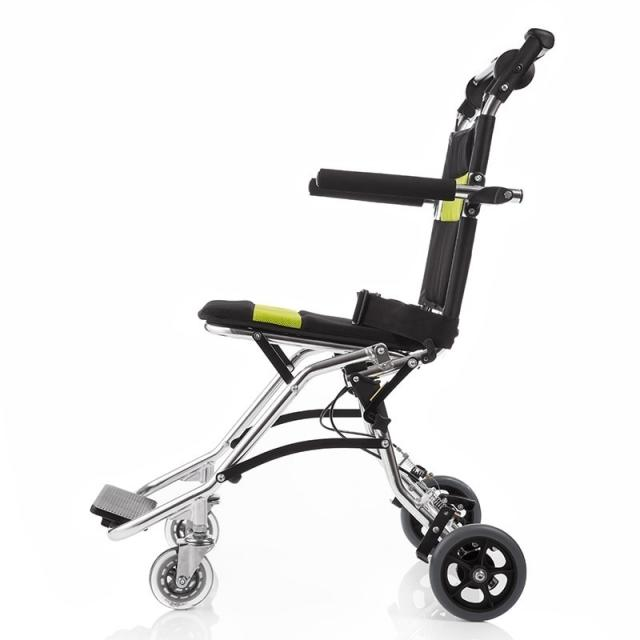wheelchair: (73, 0, 564, 640)
